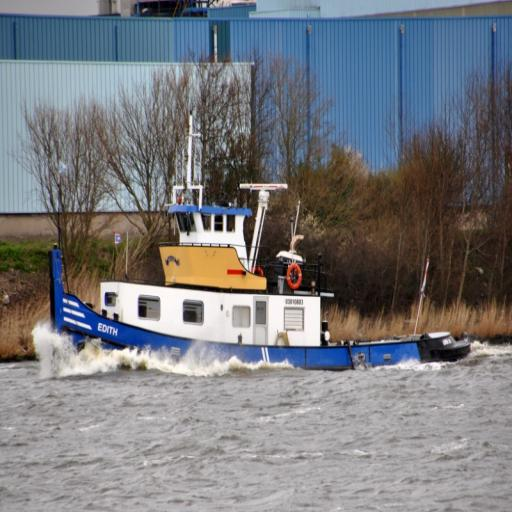tugboat: (47, 110, 481, 390)
